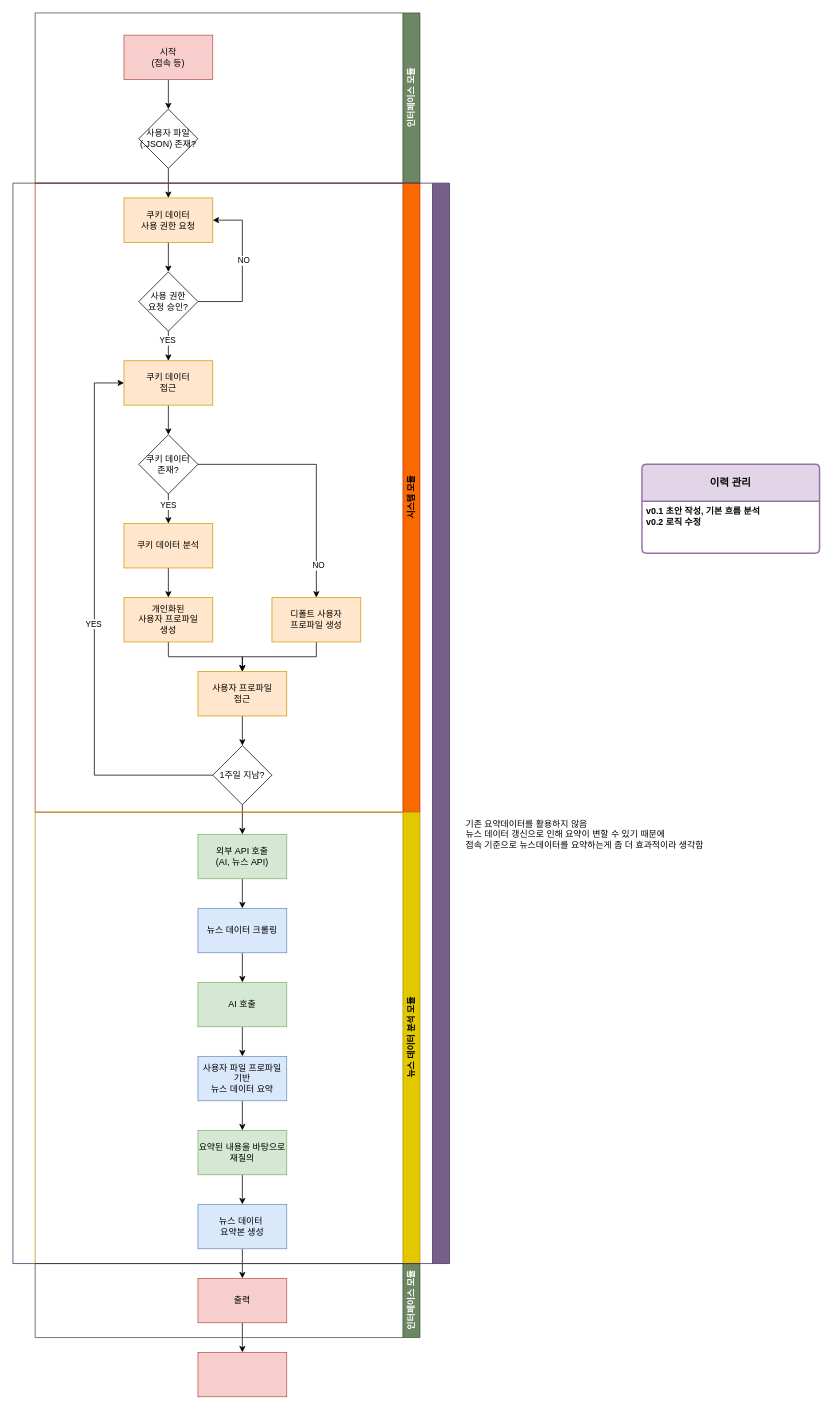
Image size: 833x1410. Some labels were removed from this diagram. Each missing label, with the centre of its shape:
메인 모듈: point (231, 723)
종료: point (242, 1374)
